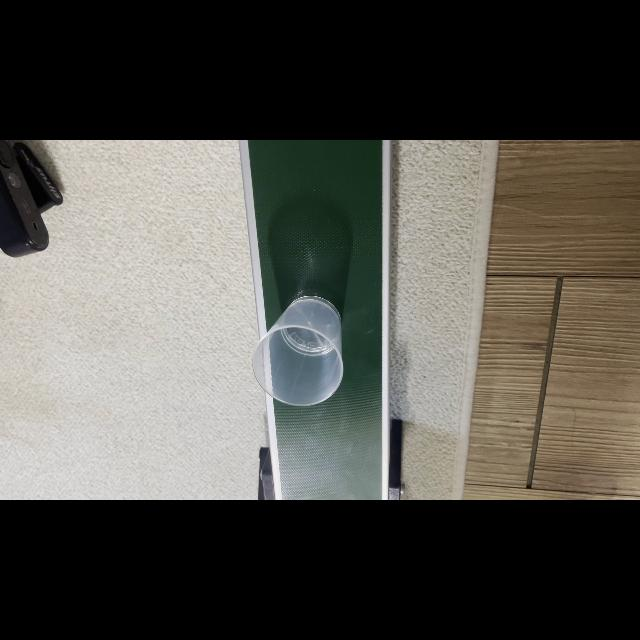clean: (268, 304, 338, 410)
